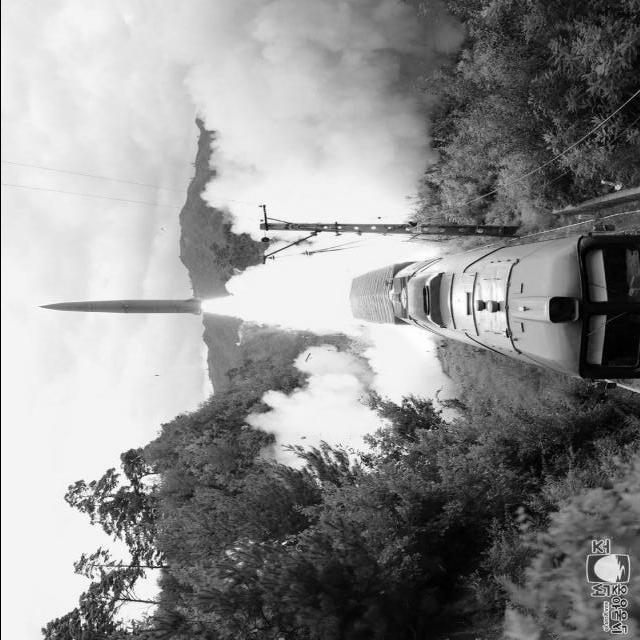Missile: (31, 290, 210, 324)
